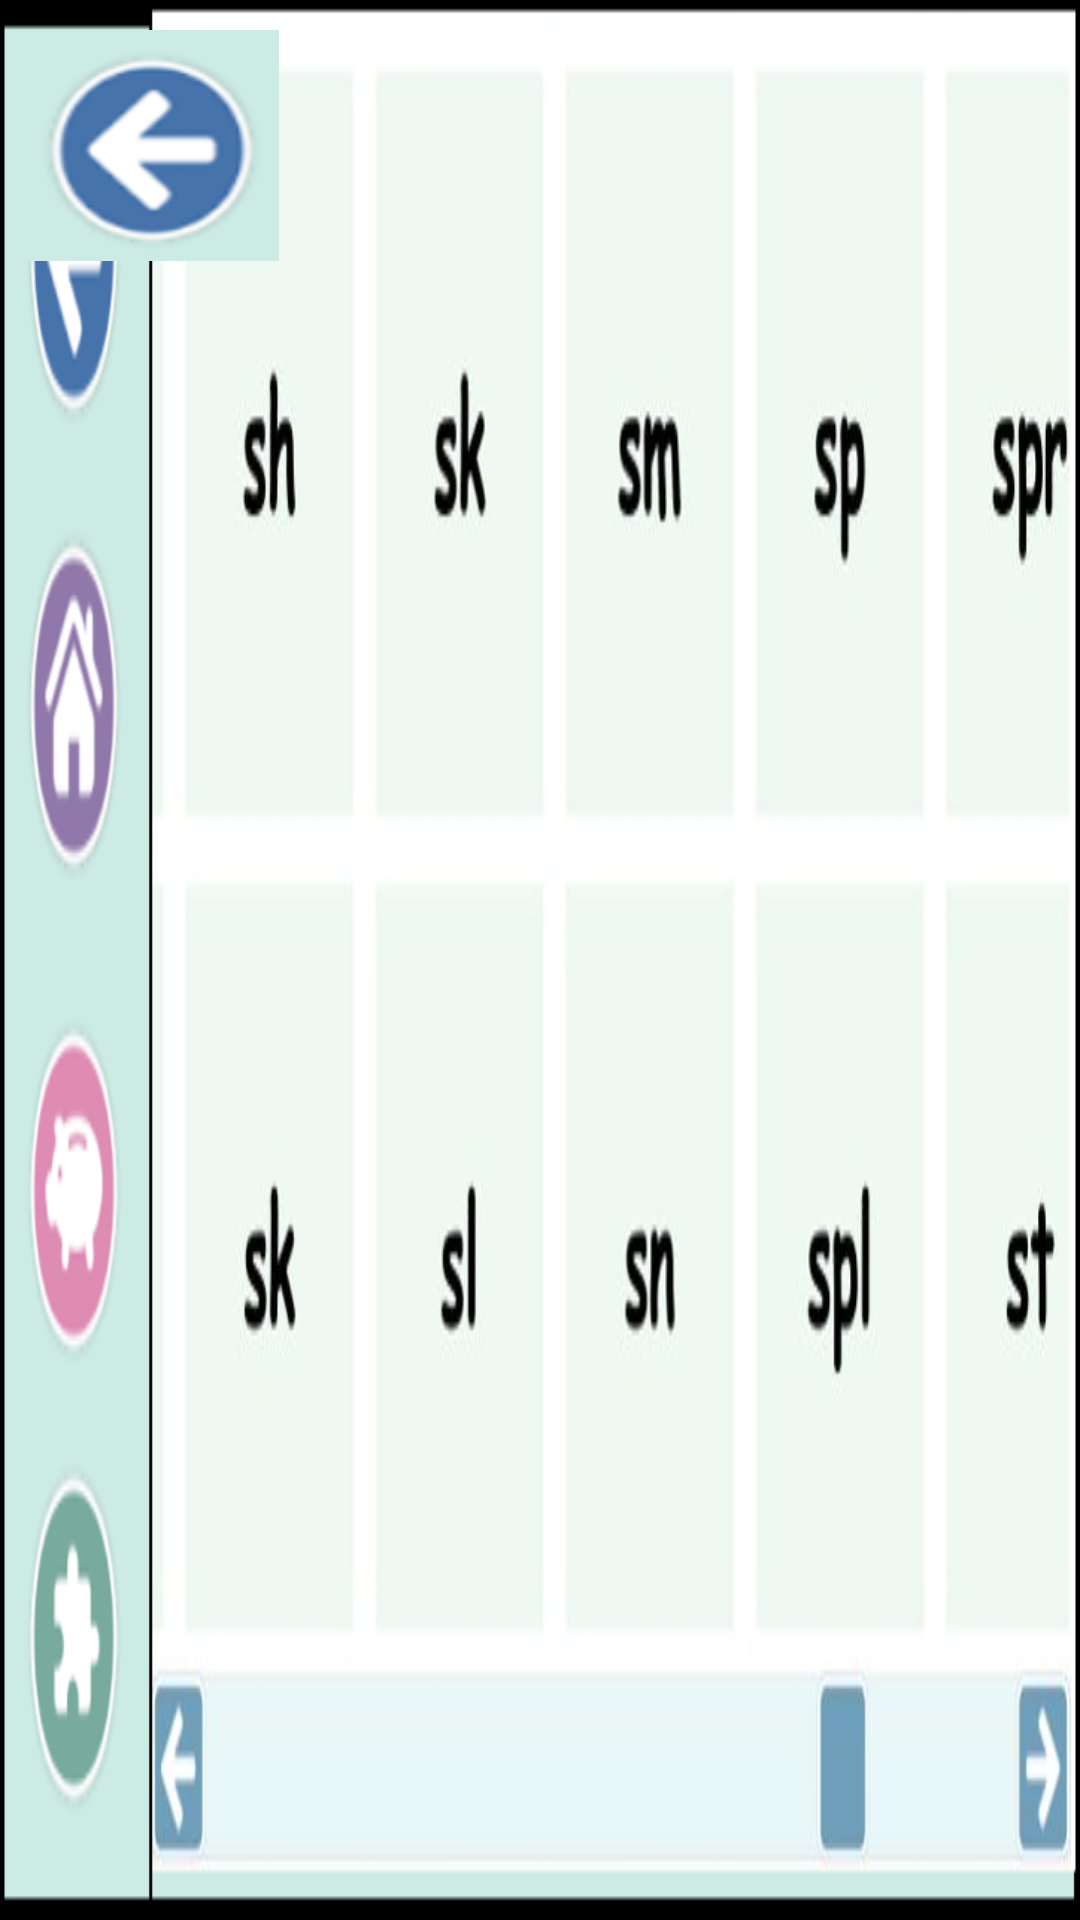

Screen size 1080px x 1920px. Icon name, then its box in pixels as (x1, y1, x2, y2):
back: (53, 61, 250, 239)
